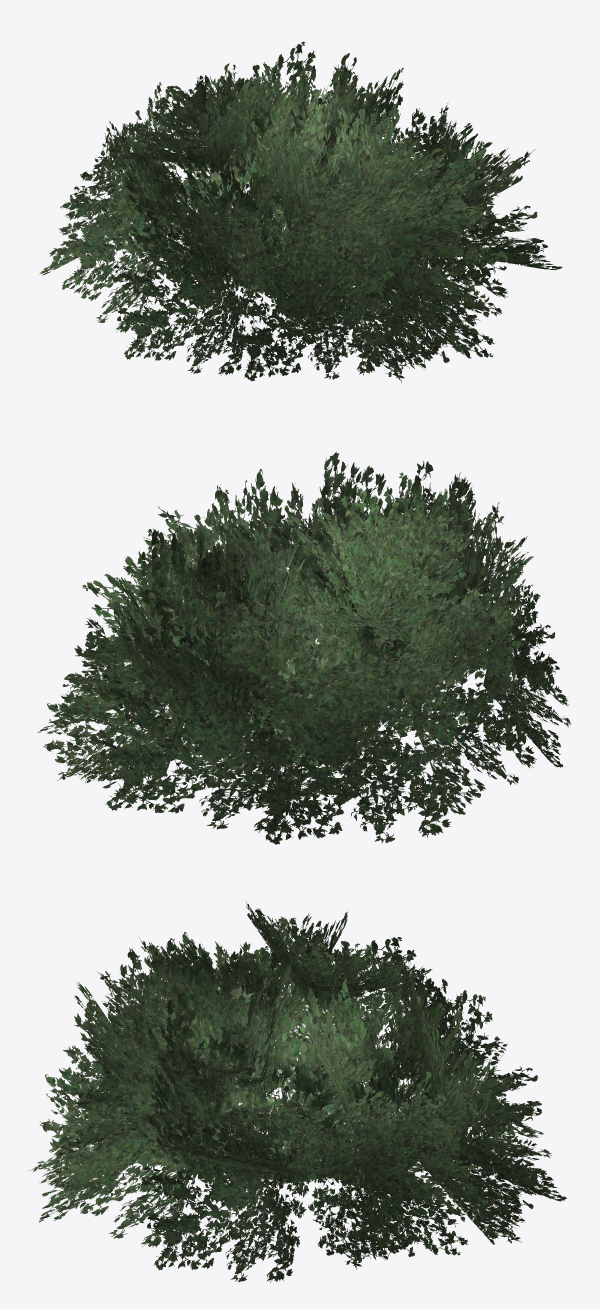
The model's file is shrb_giantlickbush_a2_l0.fbx.
3 views of the same model, one above another, from view 1: azimuth 30°, elevation 25°; view 2: azimuth 150°, elevation 25°; view 3: azimuth 270°, elevation 25° (orthographic). The views are drawn at different scales.
Visible parts, largest first — view 1: mesh_node; view 2: mesh_node; view 3: mesh_node.
Boxes of the visible parts, x1=… form: mesh_node: x1=39, y1=41, x2=562, y2=382; mesh_node: x1=37, y1=451, x2=570, y2=844; mesh_node: x1=29, y1=902, x2=566, y2=1282.
Size of the model in its own units: 4.14 by 2.23 by 4.26.
Materials: 1 (1 with a texture image).
